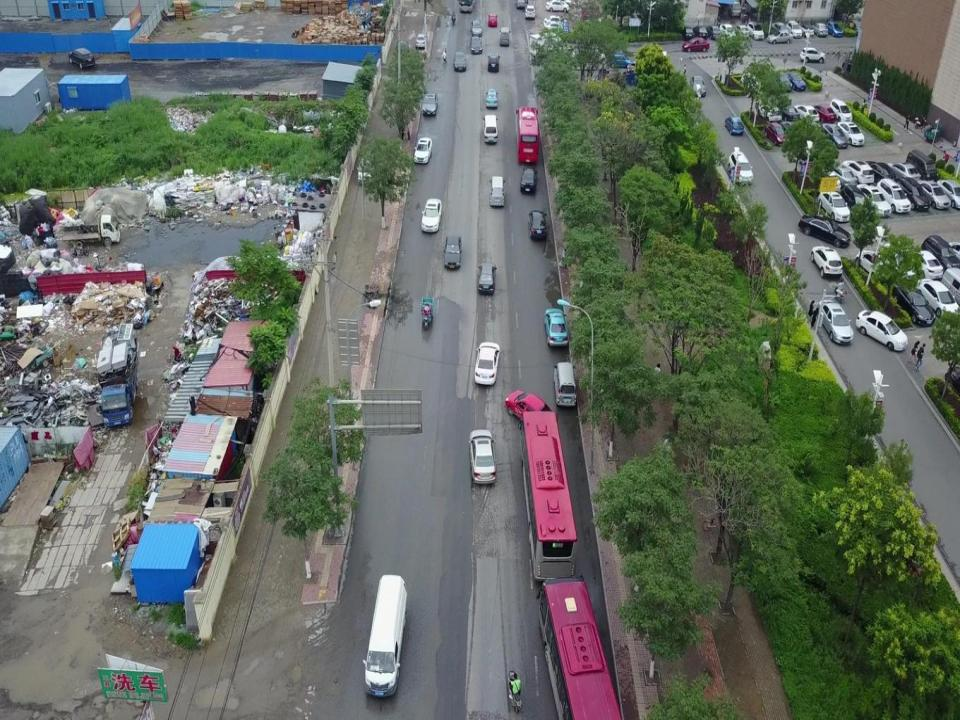bus: (536, 579, 622, 720), (520, 410, 578, 582), (515, 107, 539, 166), (459, 0, 476, 12)
car: (855, 307, 907, 352), (504, 389, 554, 426), (894, 282, 935, 326), (798, 216, 851, 248), (468, 428, 496, 487), (818, 300, 854, 344), (917, 279, 959, 316), (921, 233, 959, 271), (857, 182, 891, 218), (810, 244, 844, 278), (878, 178, 910, 214), (473, 341, 499, 385), (818, 189, 851, 222), (858, 250, 892, 282), (899, 176, 930, 211), (544, 306, 569, 346), (726, 148, 753, 185), (913, 250, 943, 280), (918, 182, 950, 210), (842, 159, 875, 184), (866, 158, 897, 184), (886, 255, 915, 280), (422, 196, 442, 232), (889, 160, 919, 184), (837, 122, 865, 147), (936, 179, 960, 208), (821, 123, 847, 149), (476, 262, 497, 294), (444, 234, 462, 270), (527, 209, 547, 240), (413, 136, 433, 165), (764, 120, 786, 145), (792, 103, 819, 122), (606, 52, 638, 68), (828, 100, 852, 121), (811, 103, 836, 123), (758, 103, 781, 124), (834, 166, 857, 186), (520, 167, 537, 194), (799, 47, 825, 64), (740, 72, 762, 92), (724, 115, 744, 136), (777, 102, 799, 121), (822, 169, 841, 191), (422, 92, 438, 117), (786, 72, 806, 92), (782, 122, 802, 142), (682, 38, 710, 52), (746, 21, 765, 41), (774, 71, 791, 91), (718, 20, 734, 40), (691, 76, 706, 97), (770, 20, 789, 36), (544, 23, 569, 35), (786, 18, 801, 38), (546, 0, 570, 12), (452, 52, 466, 72), (487, 52, 501, 72), (706, 22, 721, 40), (486, 88, 498, 109), (545, 15, 567, 26), (469, 36, 482, 54), (800, 22, 814, 38), (812, 22, 828, 36), (826, 22, 842, 36), (693, 24, 708, 38), (734, 25, 748, 40), (470, 21, 483, 36), (416, 34, 428, 49), (524, 5, 536, 19), (682, 26, 694, 40), (488, 13, 498, 27), (516, 0, 528, 8)
truck: (100, 334, 138, 426), (528, 31, 565, 57)
van: (362, 572, 407, 696), (905, 148, 937, 182), (554, 362, 578, 406), (841, 185, 869, 214), (942, 268, 960, 300), (356, 155, 376, 183), (488, 176, 506, 207), (482, 115, 498, 145), (499, 26, 510, 46), (728, 2, 741, 18)
